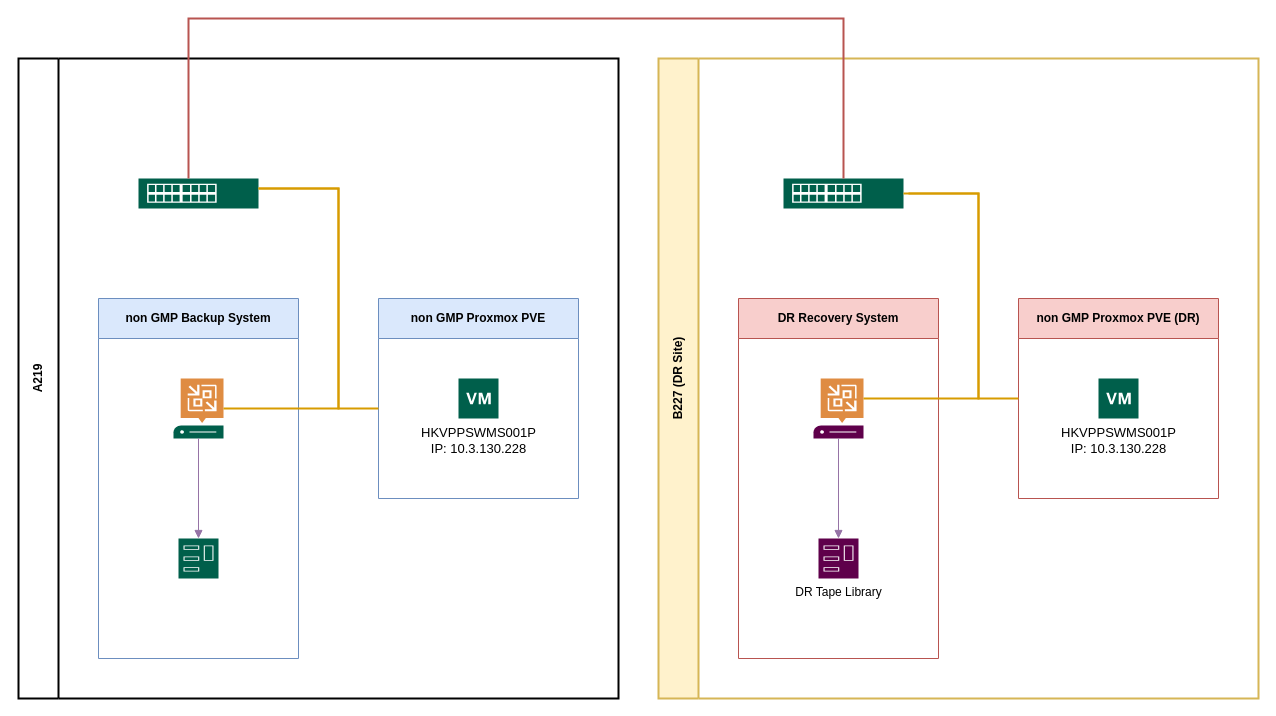
Some shapes in this 1276 by 716 pixel diagram are drawn without their labels. The shapes that lost their labels are listed below. From the top down, each one's centre as x and y in pixels, then its label:
At point 198,193: "ETC0005 IP:10.0.24.254".
At point 843,193: "FPYLB227SW01 IP:10.0.24.120".
At point 198,408: "non GMP Data Backup Server HKPBACKUP003P IP:10.3.130.12".
At point 838,408: "DR Veeam Server".
At point 198,558: "non GMP Tape Library 10.3.128.17".
